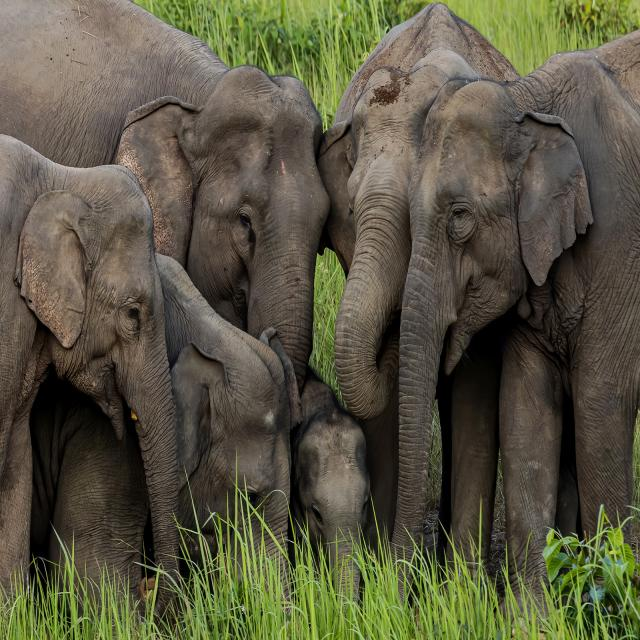Elephant: (400, 77, 640, 596), (167, 50, 351, 606), (0, 117, 183, 598), (334, 16, 424, 462), (188, 302, 310, 618), (292, 392, 380, 598)
